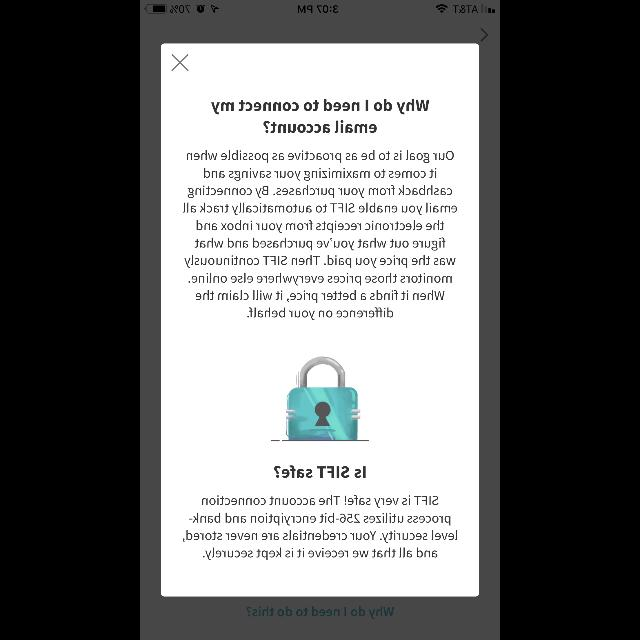icon: (172, 54, 188, 72)
image: (271, 356, 369, 442)
panel: (161, 44, 479, 596)
text: (183, 150, 457, 320), (182, 496, 458, 560), (211, 99, 429, 133), (274, 466, 366, 478)
uppertaskbar: (140, 0, 500, 14)
